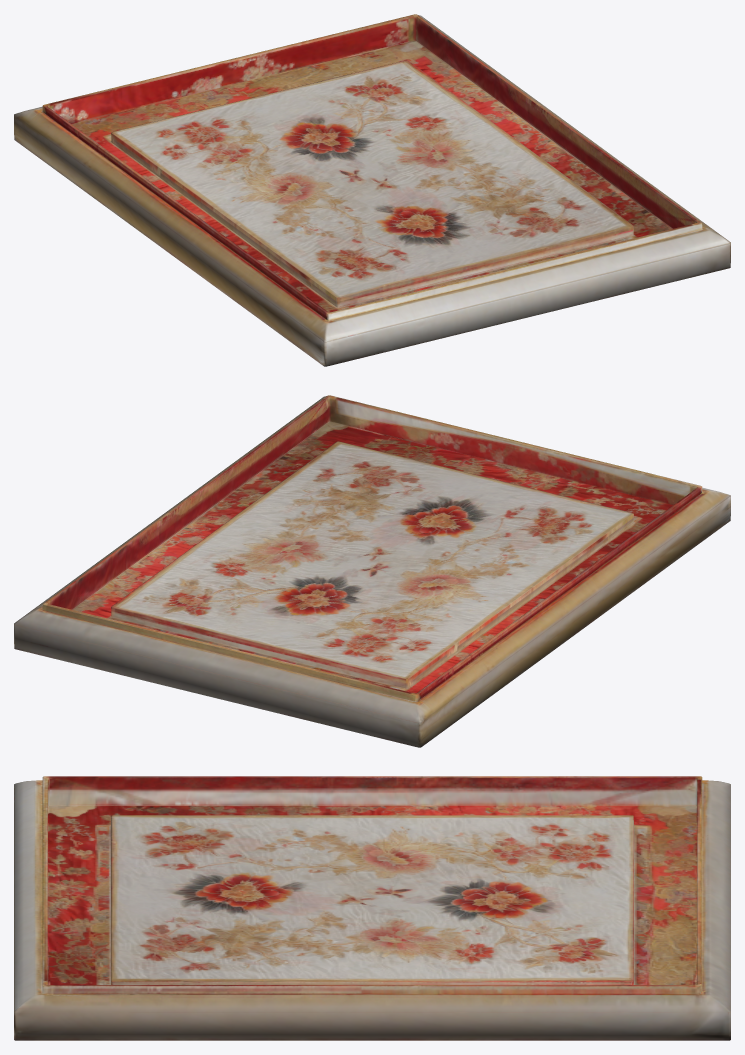
File: 画框冰箱贴_0421022610_texture.fbx
3 renders of one model, top to bottom at view 1: azimuth 30°, elevation 25°; view 2: azimuth 150°, elevation 25°; view 3: azimuth 270°, elevation 25°, orthographic. The views are drawn at different scales.
Visible parts, largest first — view 1: Mesh_0; view 2: Mesh_0; view 3: Mesh_0.
Part boxes in pixels (bbox=[...]): Mesh_0: bbox=[14, 14, 730, 366]; Mesh_0: bbox=[14, 395, 730, 747]; Mesh_0: bbox=[14, 776, 730, 1040].
Size of the model in its own units: 151 by 13.95 by 200.
1 material, 1 textured.
